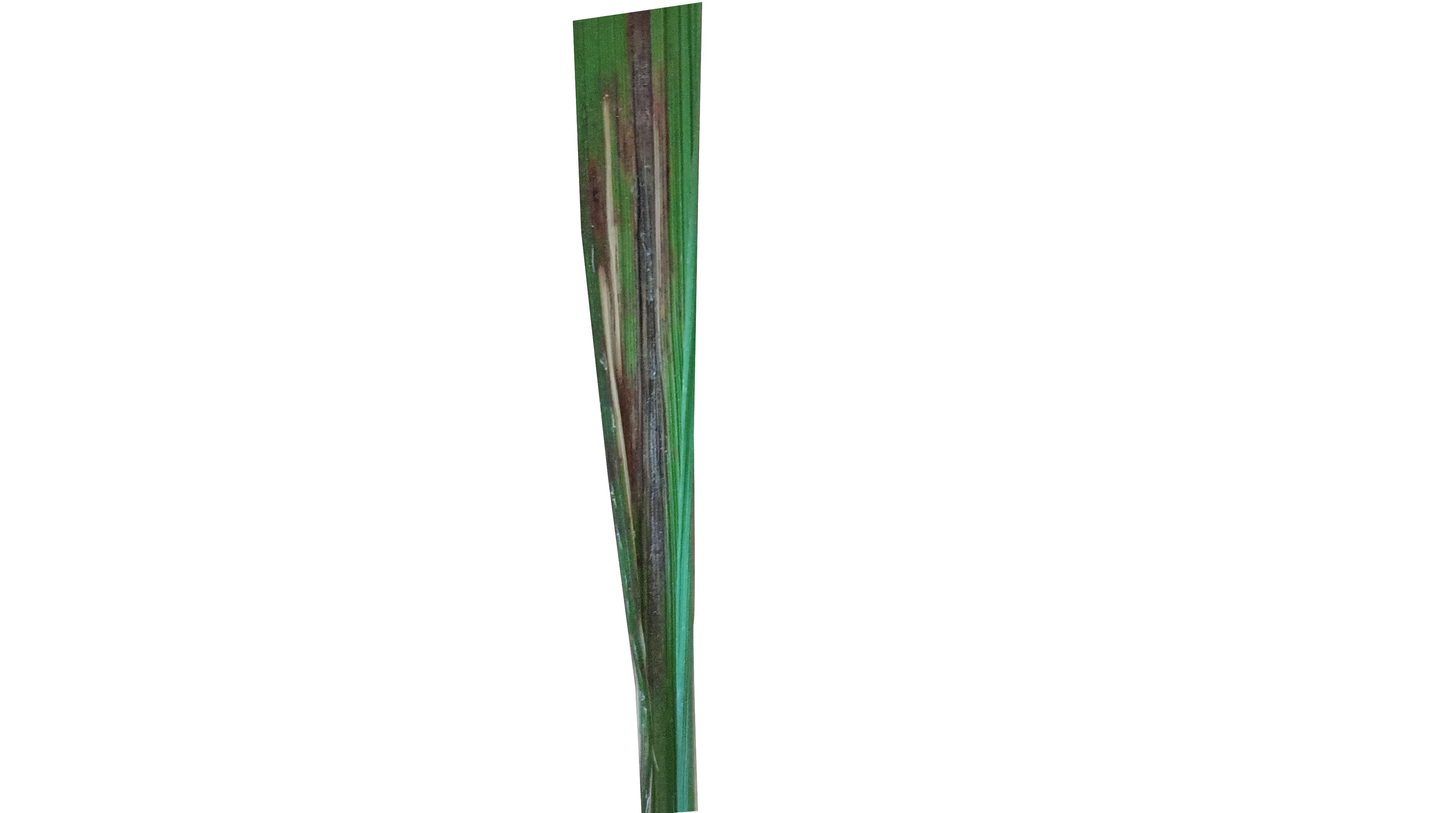Blight: (591, 17, 685, 709)
